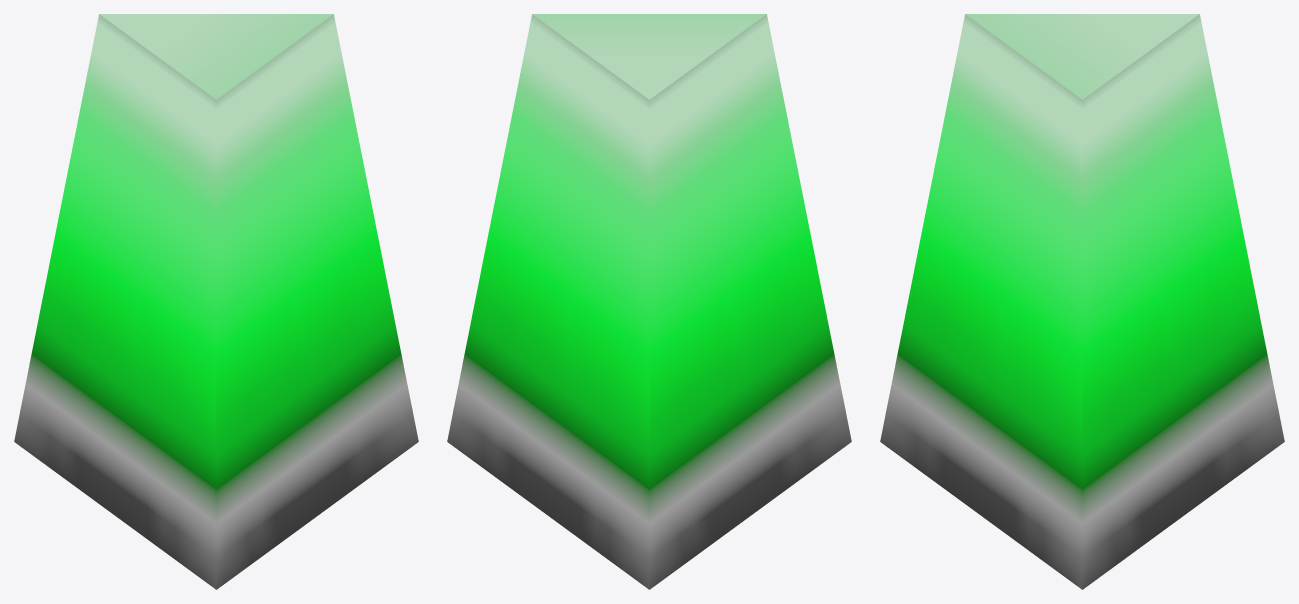
The model's file is greenbeaconlight.glb.
3 views of the same model, side by side, from view 1: azimuth 30°, elevation 25°; view 2: azimuth 150°, elevation 25°; view 3: azimuth 270°, elevation 25° (orthographic).
Visible parts, largest first — view 1: Greenbeaconlight01; view 2: Greenbeaconlight01; view 3: Greenbeaconlight01.
Boxes of the visible parts, x1=… form: Greenbeaconlight01: x1=14, y1=14, x2=418, y2=589; Greenbeaconlight01: x1=447, y1=14, x2=851, y2=589; Greenbeaconlight01: x1=880, y1=14, x2=1284, y2=589.
Bounding box in the file's own units: 0.4029 × 0.569 × 0.4653.
1 material, 1 textured.
